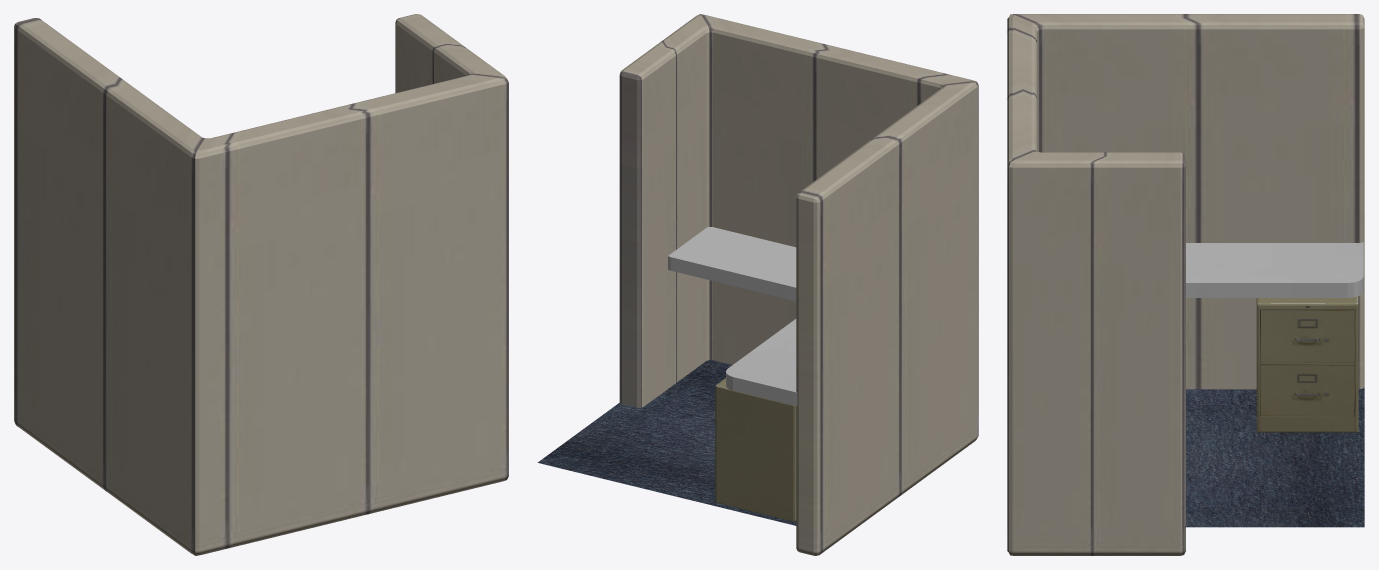
File: world.gltf
The picture shows the model from 3 angles, left to right: view 1: azimuth 30°, elevation 25°; view 2: azimuth 150°, elevation 25°; view 3: azimuth 270°, elevation 25°; orthographic projection. The views are drawn at different scales.
Parts seen in each view (by area): view 1: walls; view 2: walls, floor, desk, cabinet; view 3: walls, floor, cabinet, desk.
Part boxes in pixels (x1,y1,x2,y2): walls: [14, 14, 508, 555]; walls: [619, 14, 978, 555]; floor: [537, 360, 797, 526]; desk: [668, 227, 797, 405]; cabinet: [715, 378, 796, 521]; walls: [1007, 14, 1364, 555]; floor: [1184, 387, 1364, 527]; cabinet: [1256, 296, 1358, 432]; desk: [1186, 242, 1363, 297].
Size of the model in its own units: 7 by 8.54 by 7.
5 materials, 5 textured.
